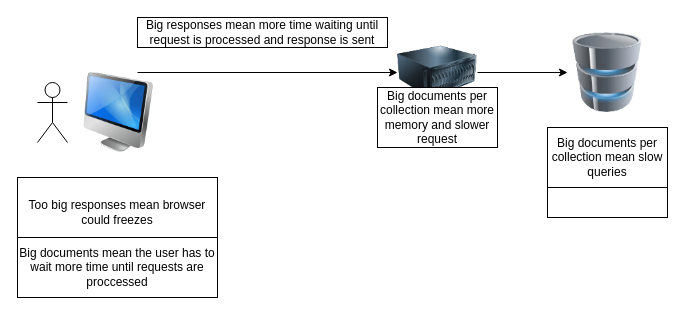
The diagram is 685 pixels wide and 315 high, and some of its shapes have lost their labels. The shapes that lost their labels are listed below. From the top down, each one's box as (x1, y1, x2, y2) in pixels, then its label:
(36, 82, 68, 142): IQX User
(546, 186, 668, 218): 16Mb limit document
